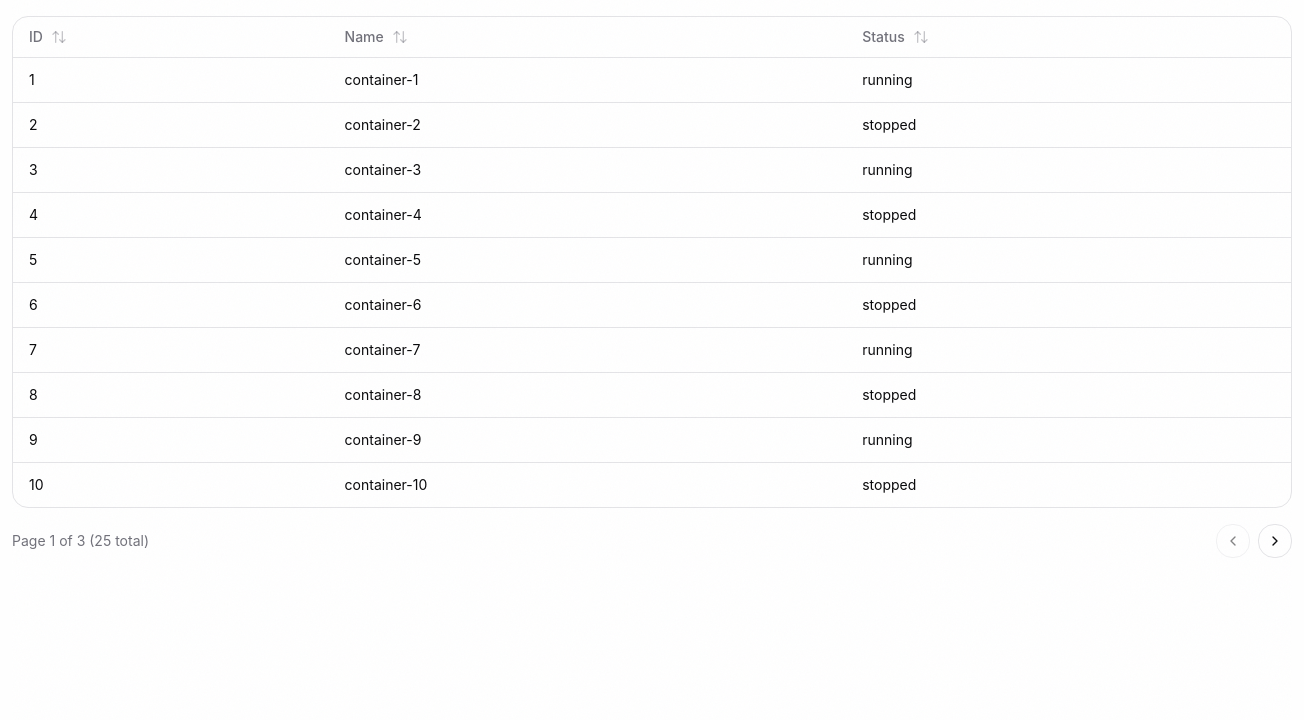
Scenario: DataTable › pagination mode (small datasets) › navigates between pages
Expected: the text "Page 1 of 3 (25 total)" is shown, [12, 530, 149, 550]
Find the next page button (second pagination button)
Click the button named "Next page": (1275, 540) [1258, 524, 1292, 558]
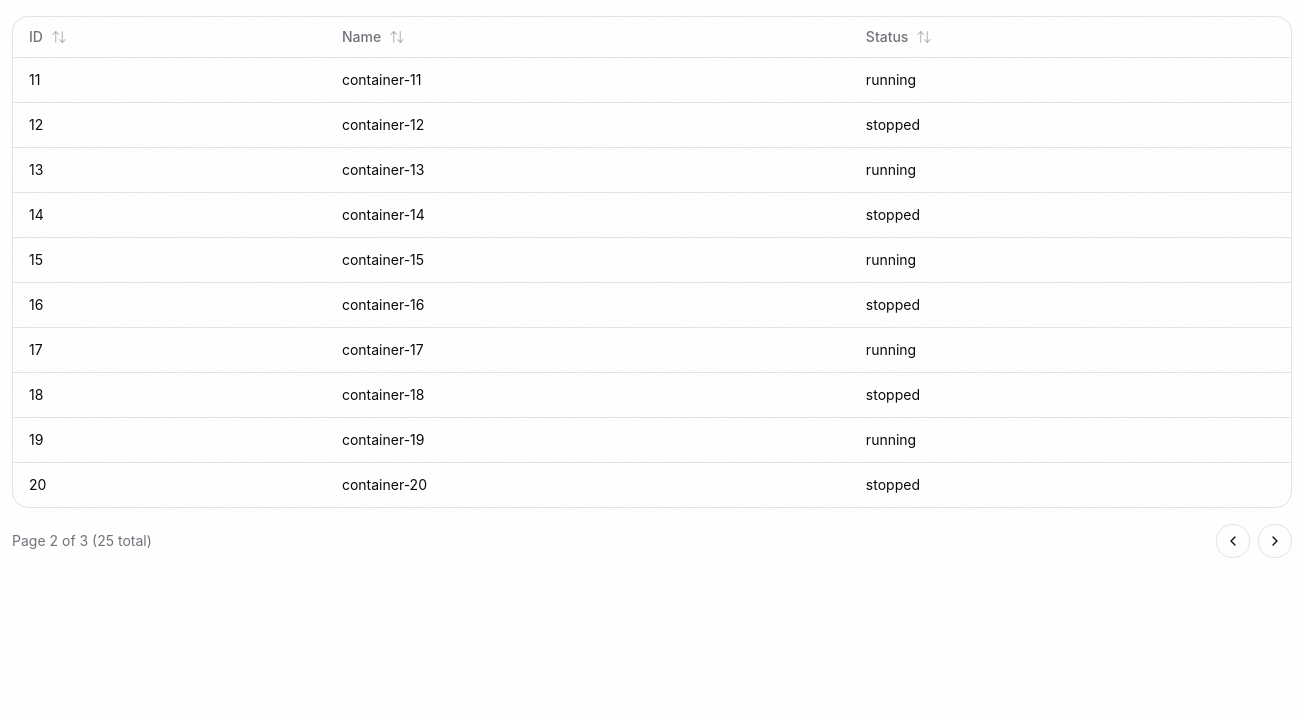
Expected: the text "Page 2 of 3 (25 total)" is shown, [12, 530, 152, 550]
